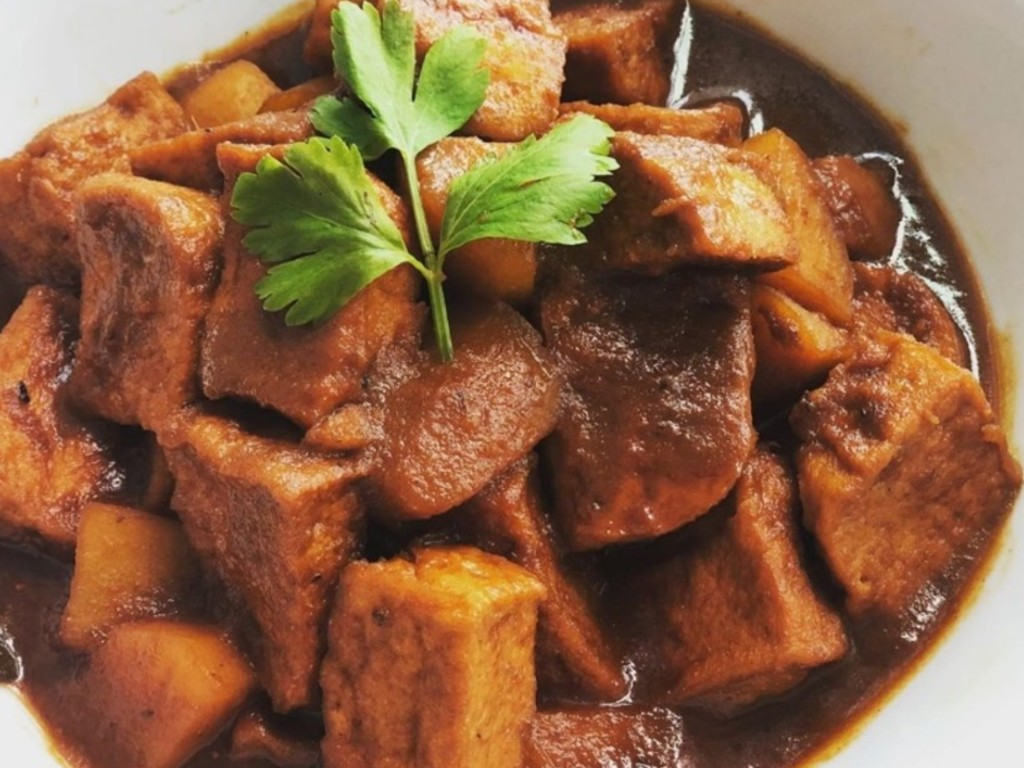Tahu: (280, 532, 557, 768), (796, 321, 994, 636), (545, 290, 756, 538), (562, 95, 782, 325), (197, 421, 347, 680), (673, 456, 845, 669)
